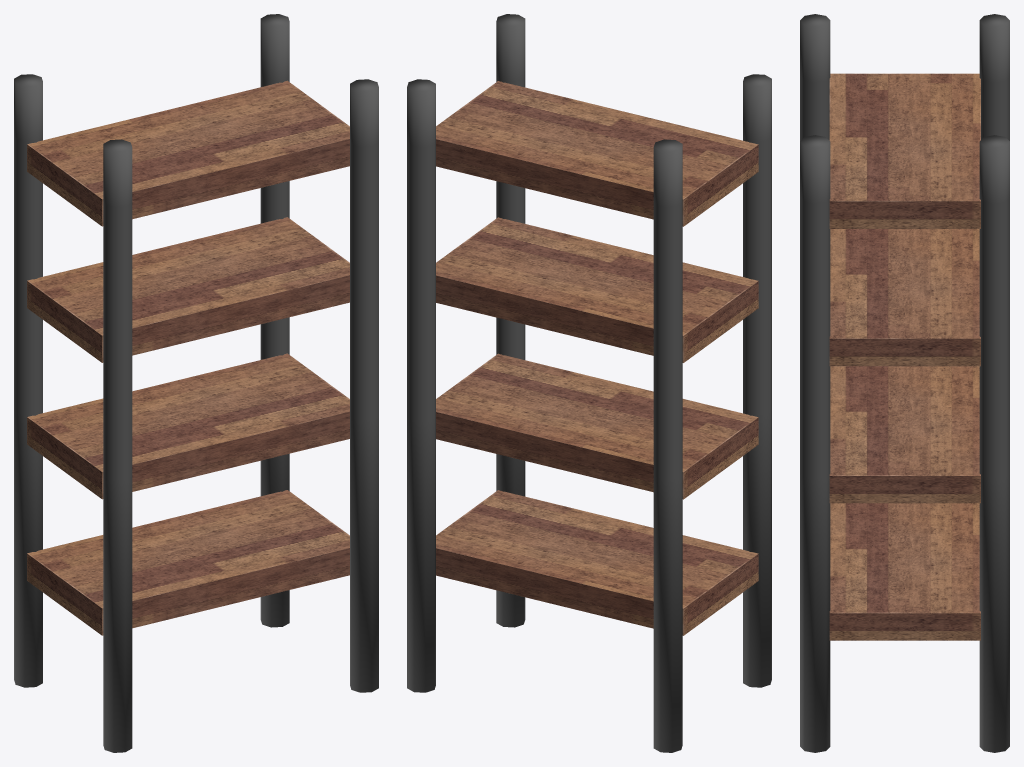
The model's file is Shelf.fbx.
3 renders of one model, left to right at view 1: azimuth 30°, elevation 25°; view 2: azimuth 150°, elevation 25°; view 3: azimuth 270°, elevation 25°, orthographic.
Visible parts, largest first — view 1: Shelf; view 2: Shelf; view 3: Shelf.
Part boxes in pixels (x1=…): Shelf: x1=14, y1=14, x2=378, y2=752; Shelf: x1=407, y1=14, x2=771, y2=752; Shelf: x1=800, y1=14, x2=1009, y2=752.
Size of the model in its own units: 209 by 441 by 139.
Materials: 2 (1 with a texture image).
